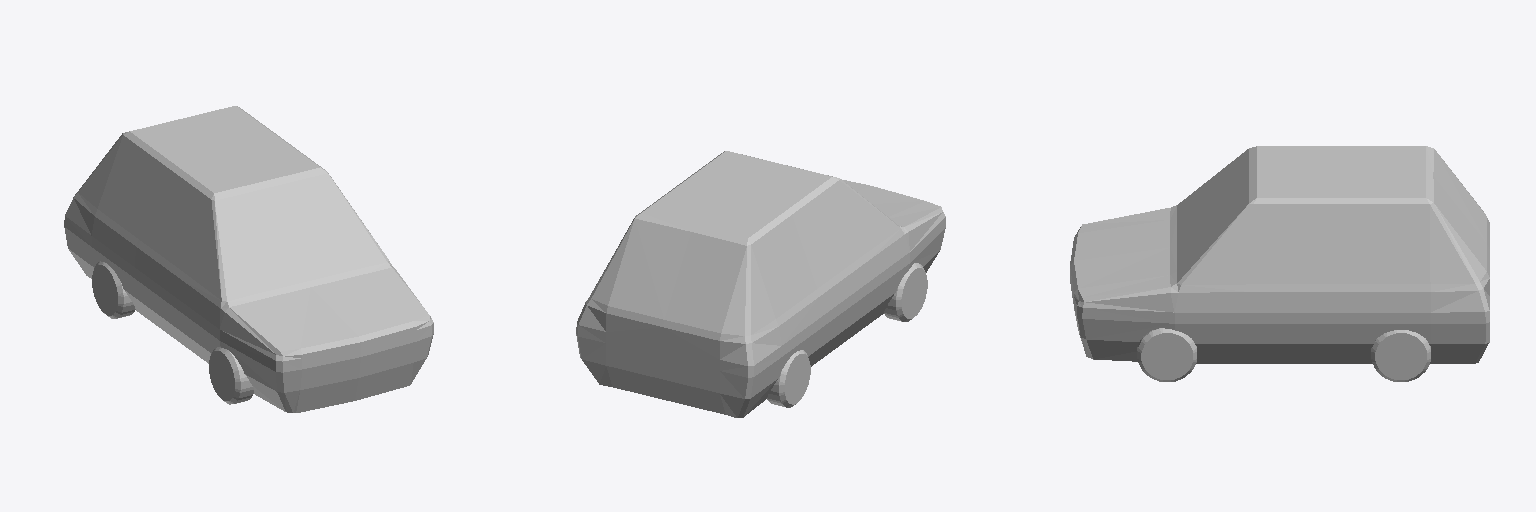
The model's file is car.obj.
3 renders of one model, left to right at view 1: azimuth 30°, elevation 25°; view 2: azimuth 150°, elevation 25°; view 3: azimuth 270°, elevation 25°, orthographic.
Visible parts, largest first — view 1: body; view 2: body; view 3: body.
Part boxes in pixels (x1,y1,x2,y2): body: (64,106,433,412); body: (576,151,945,417); body: (1070,146,1489,381).
Bounding box in the file's own units: 1.01 × 0.9 × 2.04.